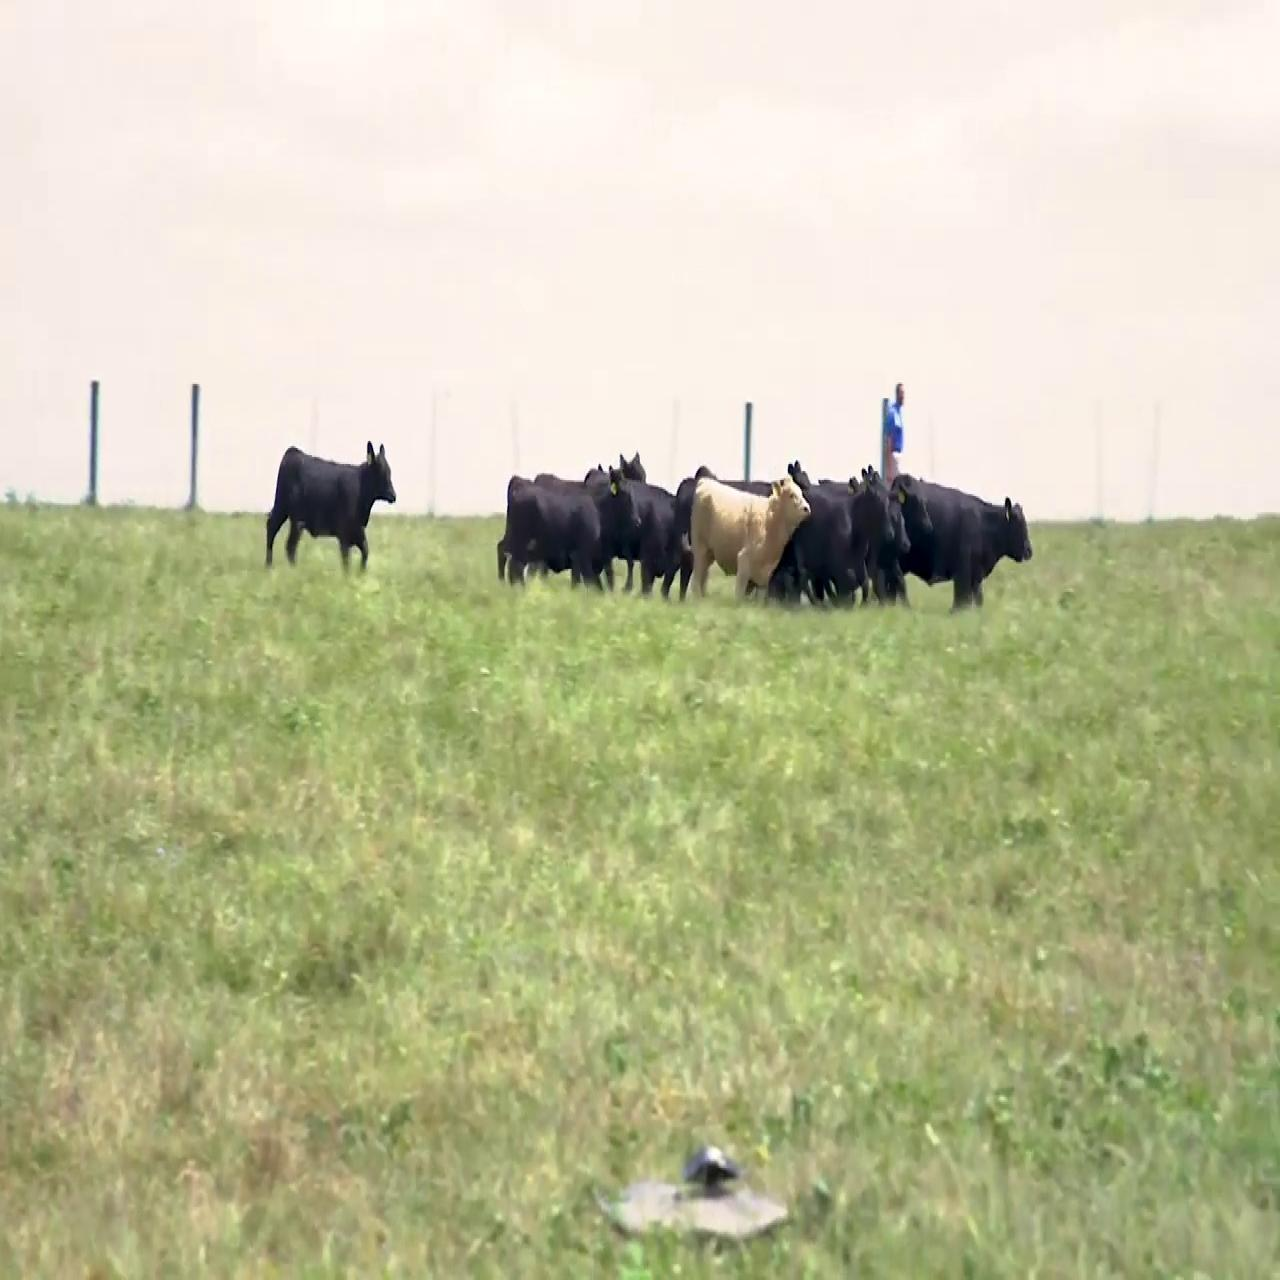cow: (888, 474, 1037, 620), (267, 438, 404, 586), (686, 454, 808, 610), (498, 481, 644, 599), (896, 474, 937, 554), (878, 489, 911, 574)
